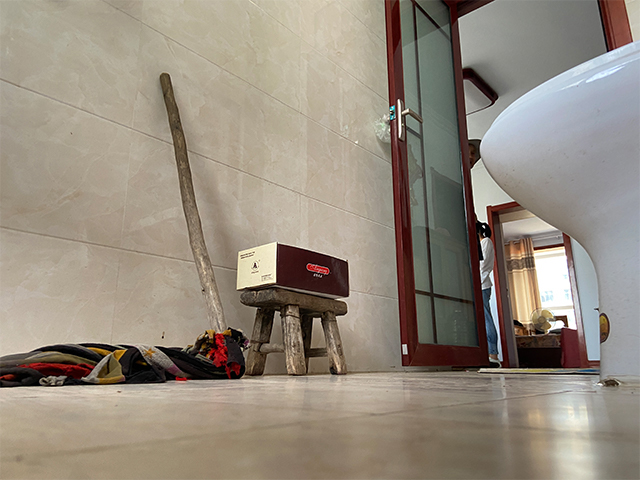carpet: (478, 366, 600, 375)
closestool: (477, 40, 640, 388)
stool: (235, 289, 349, 377)
